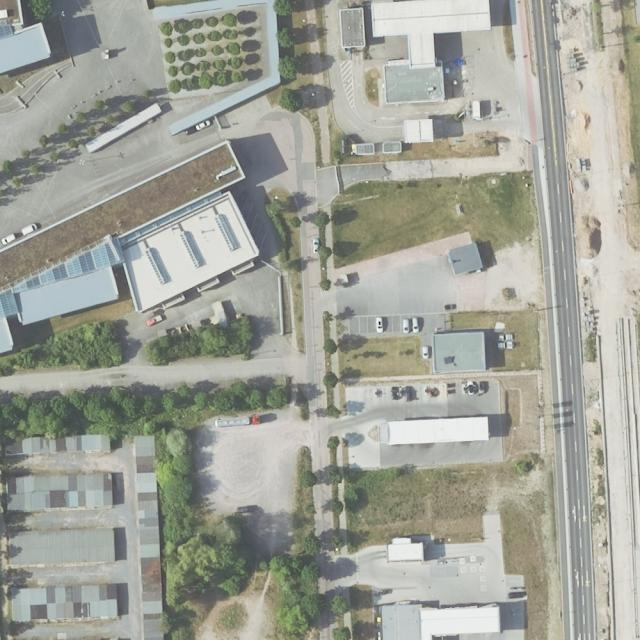PV: (0, 24, 12, 38)
